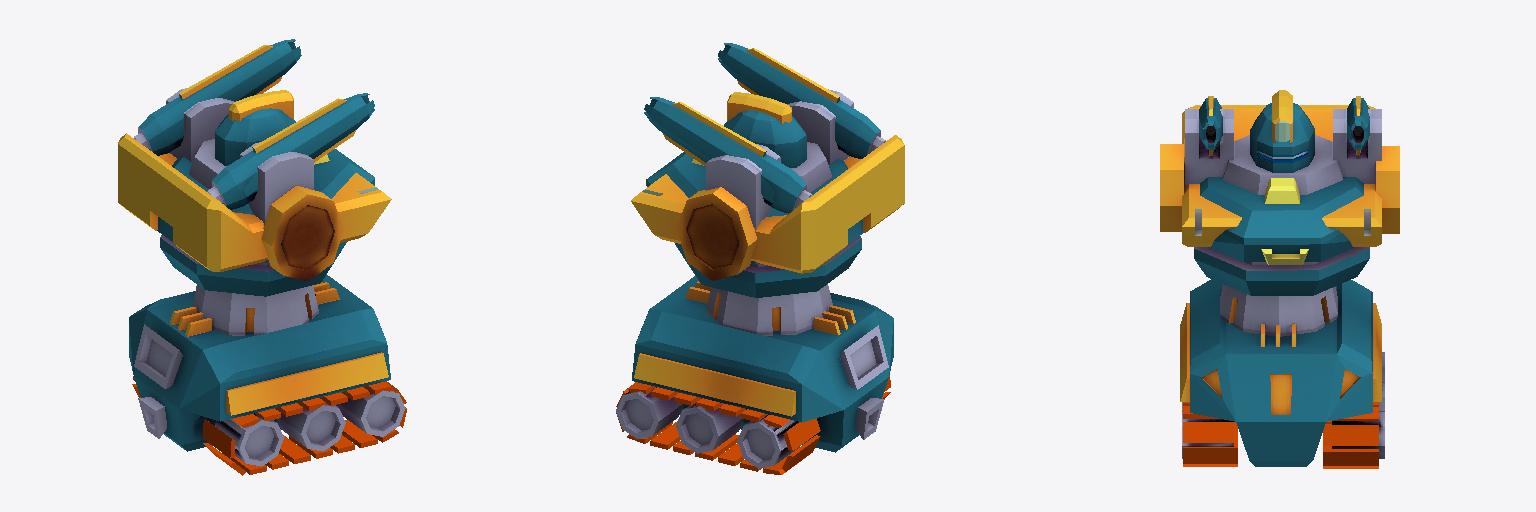
3 views of the same model, side by side, from view 1: azimuth 30°, elevation 25°; view 2: azimuth 150°, elevation 25°; view 3: azimuth 270°, elevation 25° (orthographic).
Parts seen in each view (by area): view 1: Object004, Object008, Object014, Box009, Box017; view 2: Object004, Object008, Object014, Box009, Box016; view 3: Object004, Object008, Box016, Box017, Object014, Box009.
Boxes of the visible parts, box(x1,y1,x2,y2) form: Object004: box(118, 88, 391, 296); Object008: box(129, 274, 390, 451); Object014: box(134, 39, 374, 209); Box009: box(215, 390, 405, 466); Box017: box(203, 381, 406, 475); Object004: box(631, 89, 904, 297); Object008: box(632, 276, 893, 452); Object014: box(644, 43, 885, 213); Box009: box(616, 387, 799, 468); Box016: box(616, 382, 820, 474); Object004: box(1160, 90, 1399, 295); Object008: box(1180, 279, 1381, 466); Box016: box(1323, 402, 1378, 468); Box017: box(1183, 402, 1237, 466); Object014: box(1199, 96, 1369, 155); Box009: box(1182, 352, 1384, 458).
Bounding box in the file's own units: 54.79 × 82.25 × 52.49.
Materials: 2 (1 with a texture image).